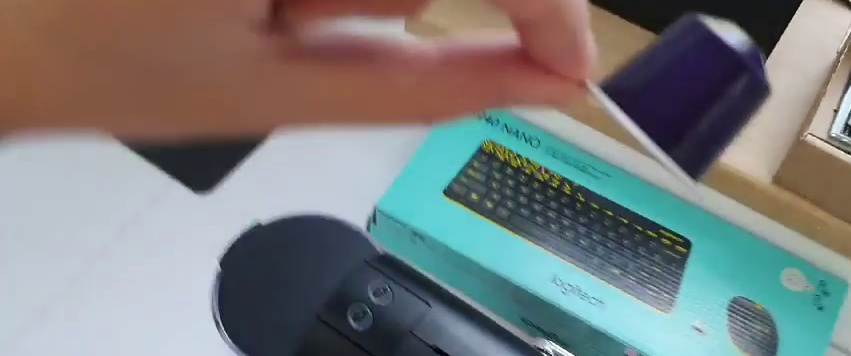capsule_11: (584, 9, 772, 185)
